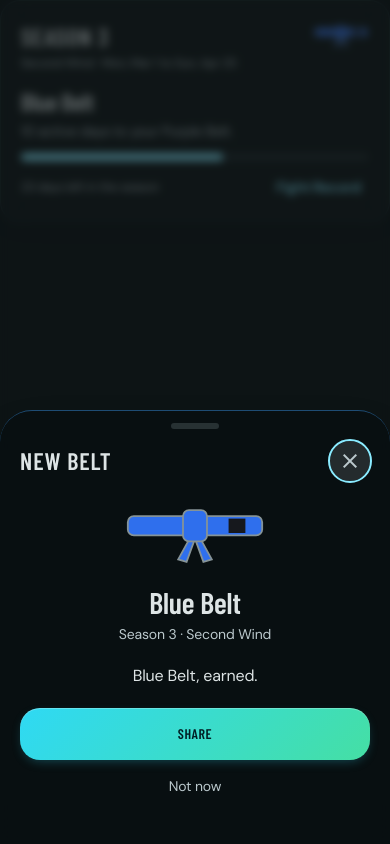
Test: BeltCelebration › acknowledges the belt when dismissed with Not now
The image size is (390, 844).
Expected: the dialog is shown, x1=0 y1=410 x2=389 y2=843
Expected: the text "Season 3 · Second Wind" is shown, x1=119 y1=625 x2=271 y2=643
Click the button "Not now" at coordinates (195, 786), box x1=20 y1=768 x2=370 y2=804
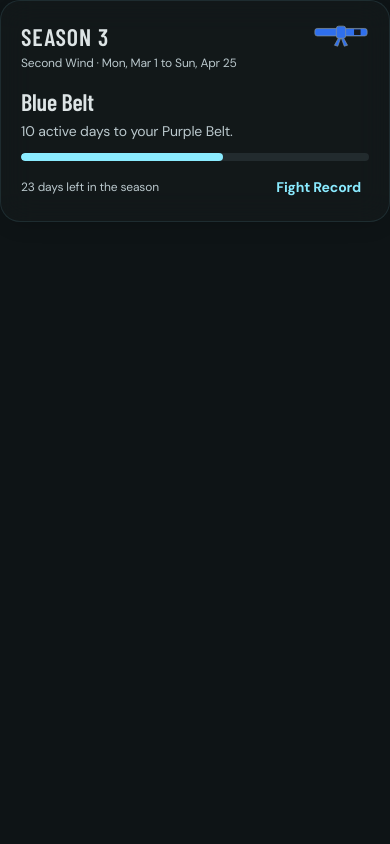
Result: the button "Not now" is gone
